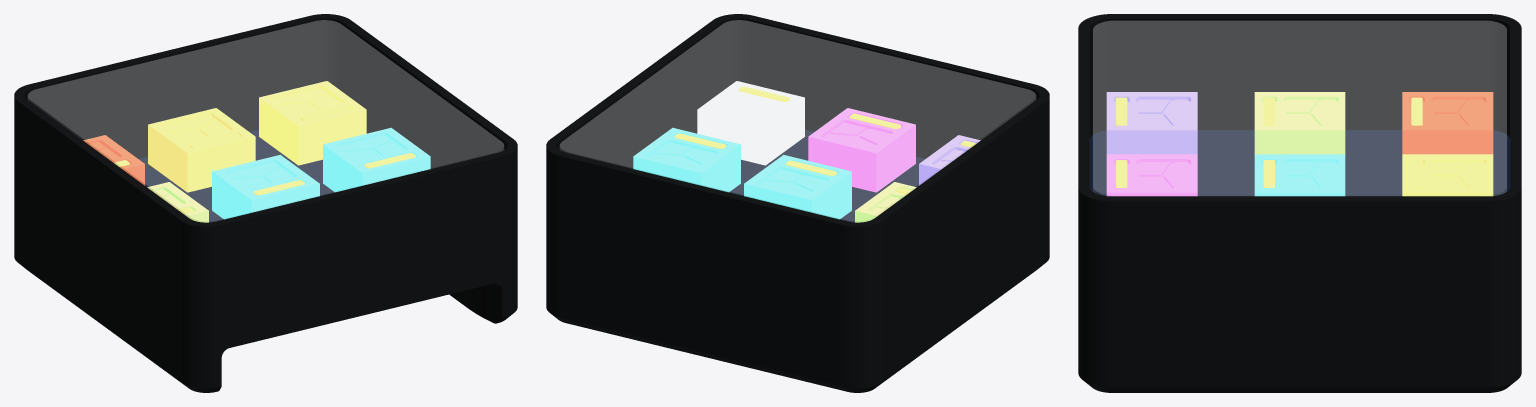
Rendered from led-grid.glb.
The picture shows the model from 3 angles, left to right: view 1: azimuth 30°, elevation 25°; view 2: azimuth 150°, elevation 25°; view 3: azimuth 270°, elevation 25°; orthographic projection. The views are drawn at different scales.
Visible parts, largest first — view 1: black, glass, led_1, led_2, led_4, led_5, pcb, led_or, led_0, led_3; view 2: black, glass, led_7, led_8, led_4, led_5, pcb, led_or, led_6, led_3; view 3: black, glass, pcb, led_0, led_6, led_3, led_1, led_7, led_4, led_or.
Part boxes in pixels (x1=…): black: x1=14, y1=14, x2=517, y2=392; glass: x1=28, y1=20, x2=503, y2=222; led_1: x1=148, y1=108, x2=255, y2=192; led_2: x1=259, y1=81, x2=366, y2=165; led_4: x1=212, y1=154, x2=319, y2=219; led_5: x1=323, y1=127, x2=430, y2=192; pcb: x1=139, y1=129, x2=334, y2=222; led_or: x1=113, y1=106, x2=415, y2=213; led_0: x1=83, y1=135, x2=144, y2=185; led_3: x1=147, y1=182, x2=208, y2=222; black: x1=546, y1=14, x2=1049, y2=392; glass: x1=560, y1=20, x2=1035, y2=222; led_7: x1=808, y1=108, x2=915, y2=192; led_8: x1=697, y1=81, x2=804, y2=165; led_4: x1=744, y1=154, x2=851, y2=219; led_5: x1=633, y1=127, x2=740, y2=192; pcb: x1=729, y1=129, x2=924, y2=222; led_or: x1=674, y1=86, x2=976, y2=194; led_6: x1=919, y1=135, x2=980, y2=185; led_3: x1=855, y1=182, x2=916, y2=222; black: x1=1078, y1=14, x2=1521, y2=392; glass: x1=1093, y1=21, x2=1506, y2=195; pcb: x1=1089, y1=130, x2=1510, y2=196; led_0: x1=1402, y1=92, x2=1493, y2=154; led_6: x1=1106, y1=92, x2=1197, y2=154; led_3: x1=1254, y1=92, x2=1345, y2=154; led_1: x1=1402, y1=154, x2=1493, y2=196; led_7: x1=1106, y1=154, x2=1197, y2=196; led_4: x1=1254, y1=154, x2=1345, y2=196; led_or: x1=1116, y1=97, x2=1422, y2=187.
Size of the model in its own units: 0.0195 by 0.00954 by 0.0195.
